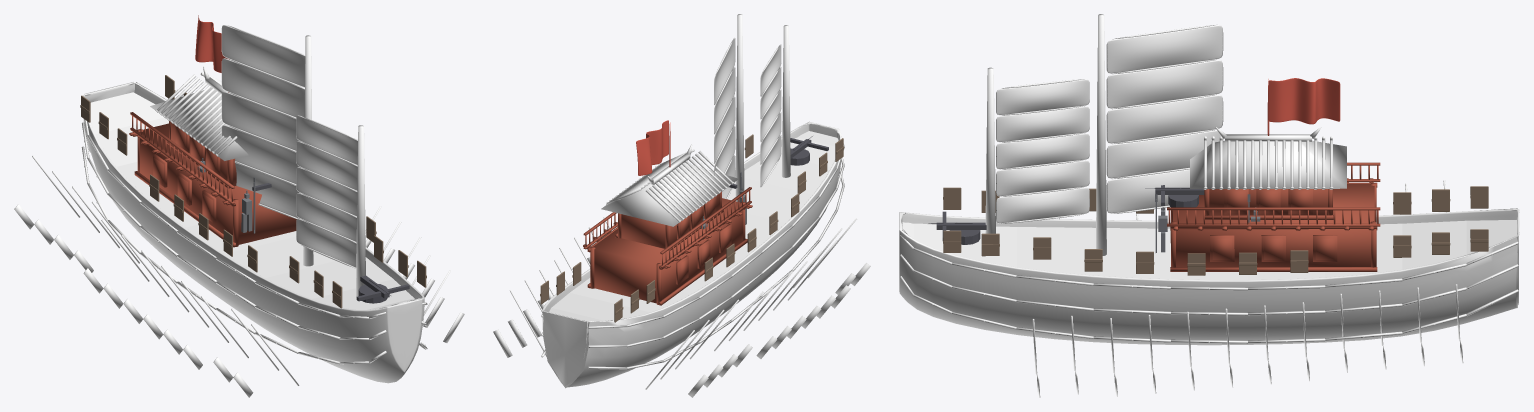
Rendered from lau_thuyen_namhan_master.glb.
3 views of the same model, side by side, from view 1: azimuth 30°, elevation 25°; view 2: azimuth 150°, elevation 25°; view 3: azimuth 270°, elevation 25° (orthographic). The views are drawn at different scales.
Visible parts, largest first — view 1: Dich_0_NamHan_Hull, Dich_0_NamHan_BuomNan_Cot_Chinh, Dich_0_NamHan_MainDeck, Dich_0_NamHan_KienTruc_ViKeo_CuaSong, Dich_0_NamHan_BuomNan_Cot_Mui, Dich_0_NamHan_24MaiCheo_HangNang, Dich_0_NamHan_MaiNgoi_AmDuong_3D, Dich_0_NamHan_HangKhien_DaTrau, Dich_0_NamHan_GờNep_VanMan, Dich_0_NamHan_Cot_Mui, Dich_0_NamHan_CoSoai_VaiSong, Dich_0_NamHan_SangNo_ChuangNu (+2 smaller); view 2: Dich_0_NamHan_Hull, Dich_0_NamHan_KienTruc_ViKeo_CuaSong, Dich_0_NamHan_MainDeck, Dich_0_NamHan_MaiNgoi_AmDuong_3D, Dich_0_NamHan_24MaiCheo_HangNang, Dich_0_NamHan_GờNep_VanMan, Dich_0_NamHan_HangKhien_DaTrau, Dich_0_NamHan_BuomNan_Cot_Chinh, Dich_0_NamHan_BuomNan_Cot_Mui, Dich_0_NamHan_Cot_Chinh, Dich_0_NamHan_CoSoai_VaiSong, Dich_0_NamHan_Cot_Mui (+1 smaller); view 3: Dich_0_NamHan_Hull, Dich_0_NamHan_BuomNan_Cot_Chinh, Dich_0_NamHan_KienTruc_ViKeo_CuaSong, Dich_0_NamHan_MainDeck, Dich_0_NamHan_BuomNan_Cot_Mui, Dich_0_NamHan_MaiNgoi_AmDuong_3D, Dich_0_NamHan_HangKhien_DaTrau, Dich_0_NamHan_GờNep_VanMan, Dich_0_NamHan_CoSoai_VaiSong, Dich_0_NamHan_24MaiCheo_HangNang, Dich_0_NamHan_Cot_Chinh, Dich_0_NamHan_SangNo_ChuangNu (+1 smaller).
Boxes of the visible parts, <box> form: Dich_0_NamHan_Hull: <box>82,82,424,383</box>; Dich_0_NamHan_BuomNan_Cot_Chinh: <box>221,25,305,219</box>; Dich_0_NamHan_MainDeck: <box>90,92,415,309</box>; Dich_0_NamHan_KienTruc_ViKeo_CuaSong: <box>129,112,296,247</box>; Dich_0_NamHan_BuomNan_Cot_Mui: <box>296,115,357,268</box>; Dich_0_NamHan_24MaiCheo_HangNang: <box>14,156,464,397</box>; Dich_0_NamHan_MaiNgoi_AmDuong_3D: <box>150,66,248,160</box>; Dich_0_NamHan_HangKhien_DaTrau: <box>80,75,426,308</box>; Dich_0_NamHan_GờNep_VanMan: <box>81,119,427,364</box>; Dich_0_NamHan_Cot_Mui: <box>356,125,365,297</box>; Dich_0_NamHan_CoSoai_VaiSong: <box>195,15,229,92</box>; Dich_0_NamHan_SangNo_ChuangNu: <box>252,183,409,303</box>; Dich_0_NamHan_Hull: <box>542,121,841,388</box>; Dich_0_NamHan_KienTruc_ViKeo_CuaSong: <box>583,187,752,305</box>; Dich_0_NamHan_MainDeck: <box>549,131,838,321</box>; Dich_0_NamHan_MaiNgoi_AmDuong_3D: <box>601,144,738,226</box>; Dich_0_NamHan_24MaiCheo_HangNang: <box>493,217,870,397</box>; Dich_0_NamHan_GờNep_VanMan: <box>541,144,844,369</box>; Dich_0_NamHan_HangKhien_DaTrau: <box>540,134,844,322</box>; Dich_0_NamHan_BuomNan_Cot_Chinh: <box>714,37,735,199</box>; Dich_0_NamHan_BuomNan_Cot_Mui: <box>760,44,781,187</box>; Dich_0_NamHan_Cot_Chinh: <box>735,14,744,201</box>; Dich_0_NamHan_CoSoai_VaiSong: <box>636,120,670,175</box>; Dich_0_NamHan_Cot_Mui: <box>781,25,790,177</box>; Dich_0_NamHan_Hull: <box>899,208,1519,345</box>; Dich_0_NamHan_BuomNan_Cot_Chinh: <box>1106,25,1223,213</box>; Dich_0_NamHan_KienTruc_ViKeo_CuaSong: <box>1167,162,1380,271</box>; Dich_0_NamHan_MainDeck: <box>902,220,1517,279</box>; Dich_0_NamHan_BuomNan_Cot_Mui: <box>996,79,1089,223</box>; Dich_0_NamHan_MaiNgoi_AmDuong_3D: <box>1190,127,1346,189</box>; Dich_0_NamHan_HangKhien_DaTrau: <box>943,186,1488,275</box>; Dich_0_NamHan_GờNep_VanMan: <box>900,235,1518,343</box>; Dich_0_NamHan_CoSoai_VaiSong: <box>1267,78,1340,135</box>; Dich_0_NamHan_24MaiCheo_HangNang: <box>1032,180,1463,397</box>; Dich_0_NamHan_Cot_Chinh: <box>1096,14,1106,255</box>; Dich_0_NamHan_SangNo_ChuangNu: <box>928,185,1204,244</box>.
Bounding box in the file's own units: 9.44 × 10.61 × 18.09.
